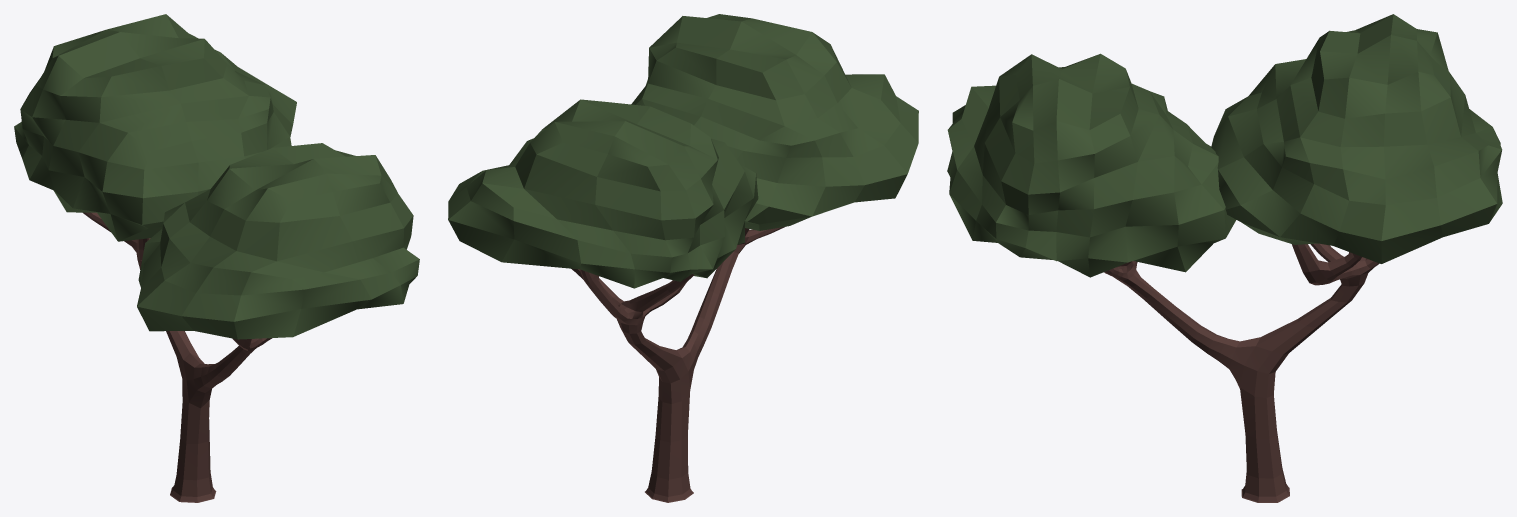
Rendered from Tree_42.glb.
The picture shows the model from 3 angles, left to right: view 1: azimuth 30°, elevation 25°; view 2: azimuth 150°, elevation 25°; view 3: azimuth 270°, elevation 25°; orthographic projection. The views are drawn at different scales.
Parts seen in each view (by area): view 1: Tree_42_Merged; view 2: Tree_42_Merged; view 3: Tree_42_Merged.
Boxes of the visible parts, bbox=[...] form: Tree_42_Merged: bbox=[14, 14, 419, 502]; Tree_42_Merged: bbox=[448, 14, 918, 502]; Tree_42_Merged: bbox=[947, 14, 1502, 502].
Bounding box in the file's own units: 1.89 × 2.48 × 2.77.
